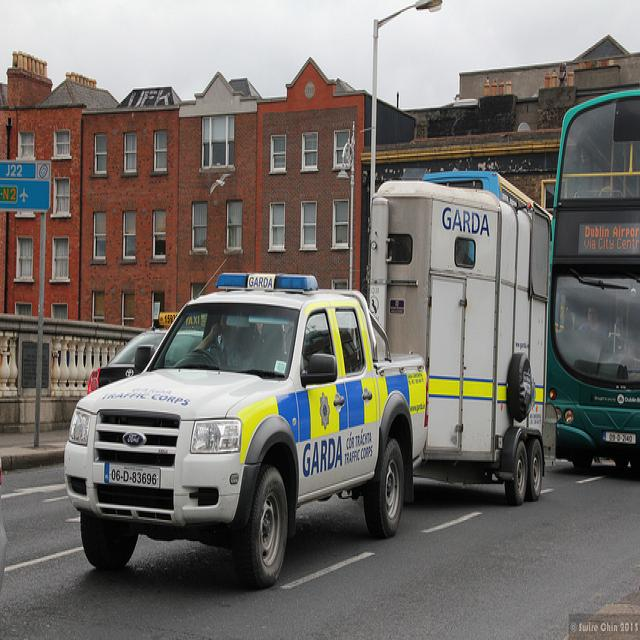Vehicle: (62, 269, 429, 586), (367, 180, 558, 504), (545, 89, 640, 457), (87, 325, 165, 390)
